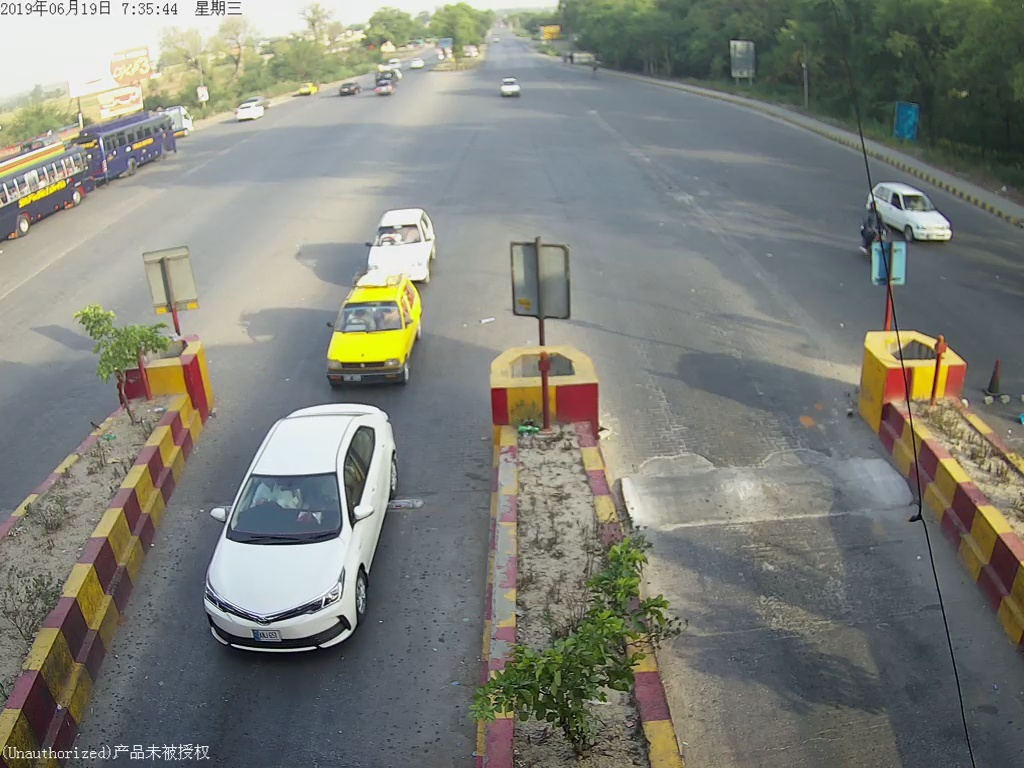Cat-1: (199, 415, 407, 669), (319, 285, 428, 385), (368, 215, 443, 276)
